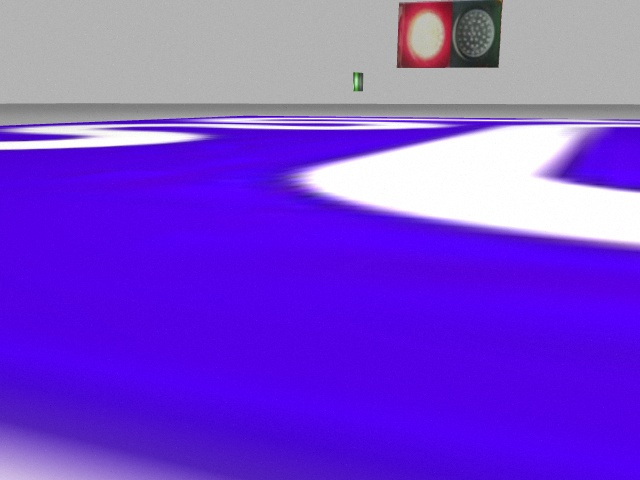red: (398, 2, 449, 67)
